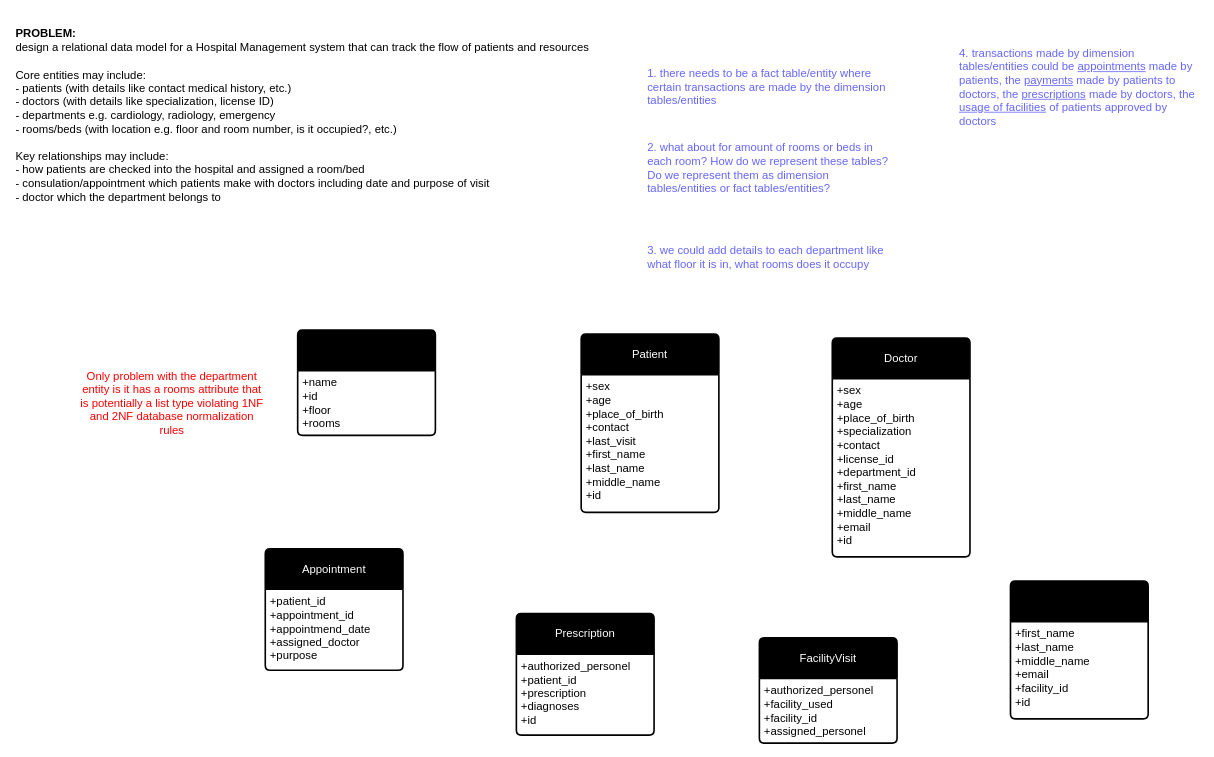
Image size: 1214x757. Some labels were removed from this diagram. The shapes that lost their labels are listed below. From the top down, each one's box as (x1, y1, x2, y2) in pixels, then its label:
(296, 329, 436, 436): Department
(1009, 580, 1149, 719): Personel
